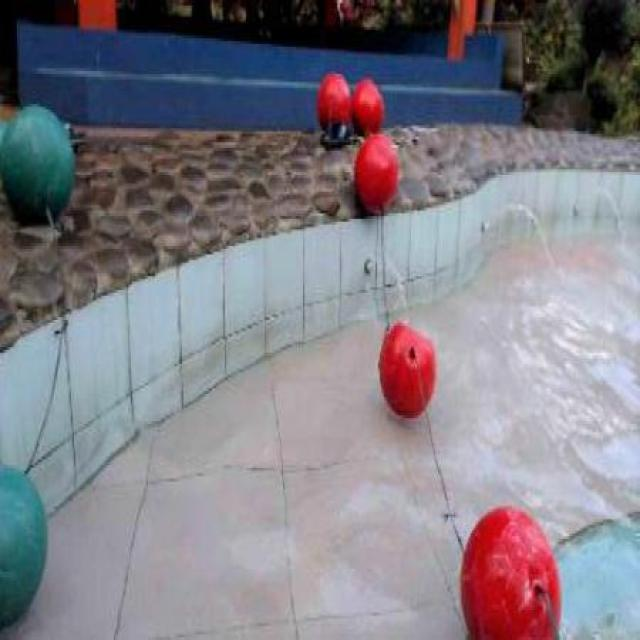buoy: (459, 502, 562, 636), (0, 101, 75, 224), (0, 461, 46, 626), (378, 321, 437, 417), (353, 128, 398, 210), (316, 70, 351, 126), (349, 76, 383, 132)
